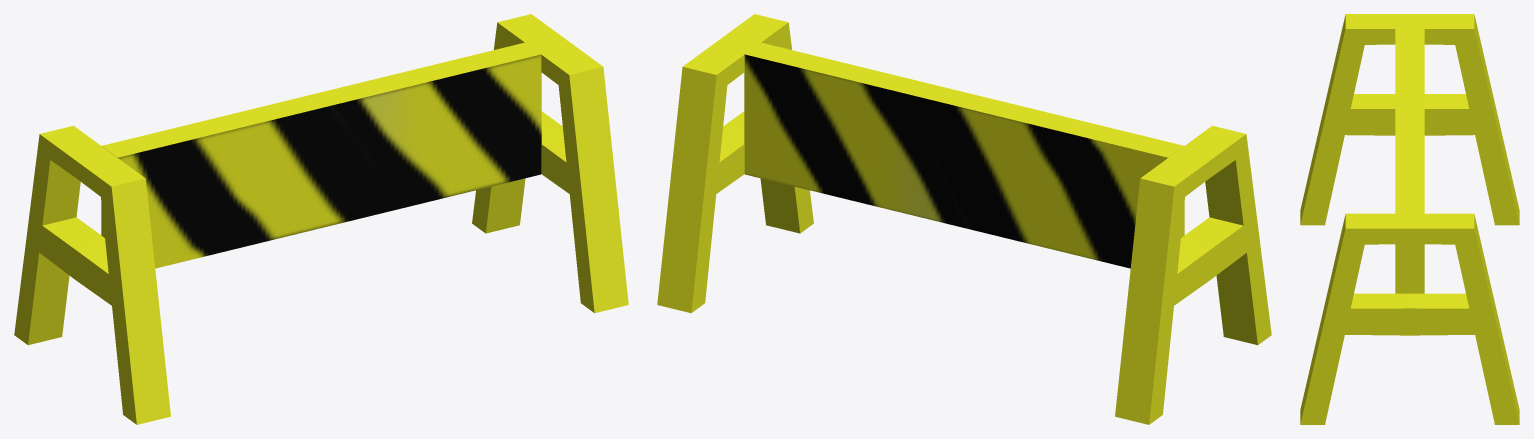
Rendered from kerning_parking_bar.gltf.
3 renders of one model, left to right at view 1: azimuth 30°, elevation 25°; view 2: azimuth 150°, elevation 25°; view 3: azimuth 270°, elevation 25°, orthographic. The views are drawn at different scales.
Visible parts, largest first — view 1: Parking Bar; view 2: Parking Bar; view 3: Parking Bar.
Part boxes in pixels (x1,y1,x2,y2): Parking Bar: (14, 14, 628, 424); Parking Bar: (657, 14, 1271, 424); Parking Bar: (1300, 14, 1519, 424).
Size of the model in its own units: 4.63 by 1.98 by 2.
Materials: 1 (1 with a texture image).
